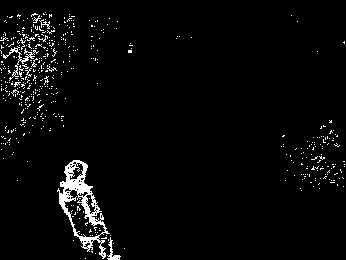person: (57, 159, 124, 259)
